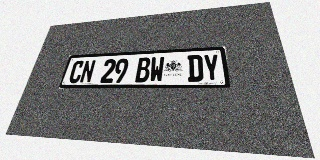2: (100, 59, 117, 83)
9: (113, 58, 129, 83)
B: (135, 57, 151, 82)
C: (68, 60, 85, 83)
D: (187, 55, 203, 82)
N: (79, 60, 96, 83)
W: (149, 56, 164, 82)
Y: (203, 54, 221, 81)
